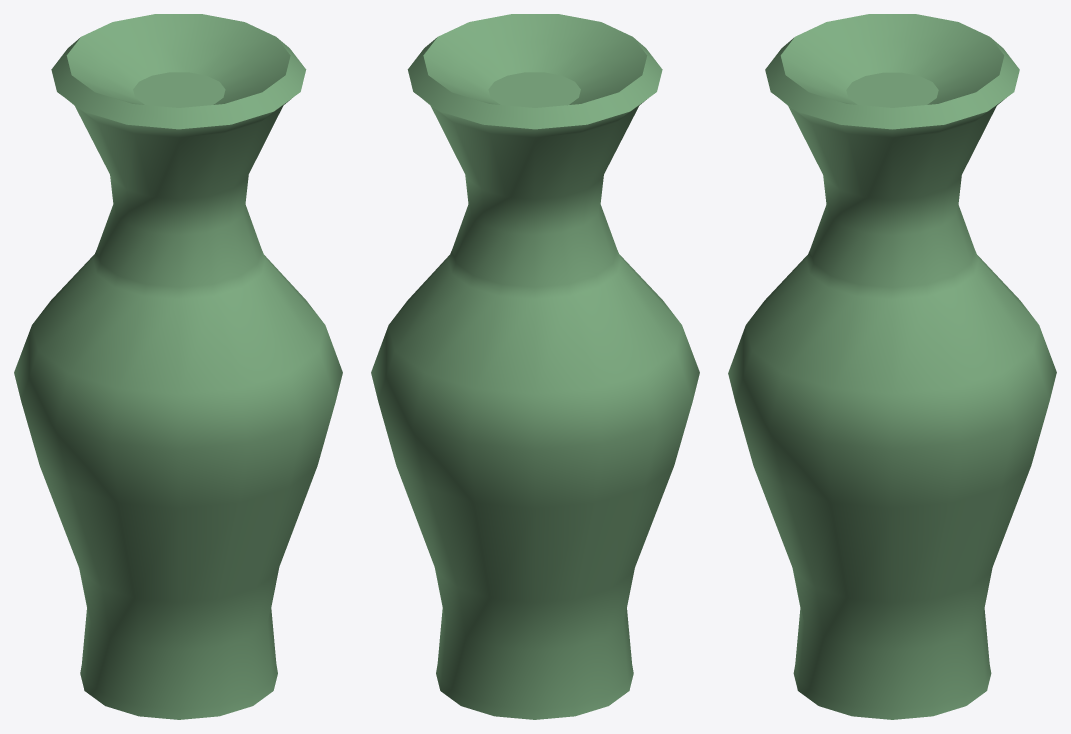
Rendered from sm_longvase.fbx.
The picture shows the model from 3 angles, left to right: view 1: azimuth 30°, elevation 25°; view 2: azimuth 150°, elevation 25°; view 3: azimuth 270°, elevation 25°; orthographic projection.
Visible parts, largest first — view 1: sm_longbase; view 2: sm_longbase; view 3: sm_longbase.
Boxes of the visible parts, x1,y1,x2,y2 form: sm_longbase: (14,14,342,719); sm_longbase: (371,14,699,719); sm_longbase: (728,14,1056,719).
Size of the model in its own units: 0.3557 by 0.7408 by 0.3577.
